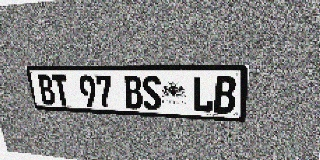7: (94, 75, 115, 108)
9: (78, 75, 98, 107)
B: (213, 76, 237, 114), (123, 75, 143, 109), (36, 75, 57, 105)
L: (193, 76, 214, 113)
S: (141, 76, 162, 110)
T: (51, 75, 71, 106)
